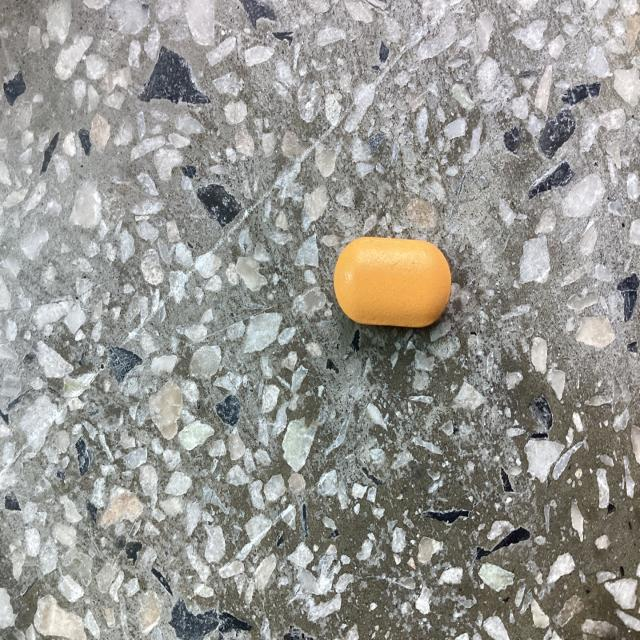-: (326, 217, 462, 342)
